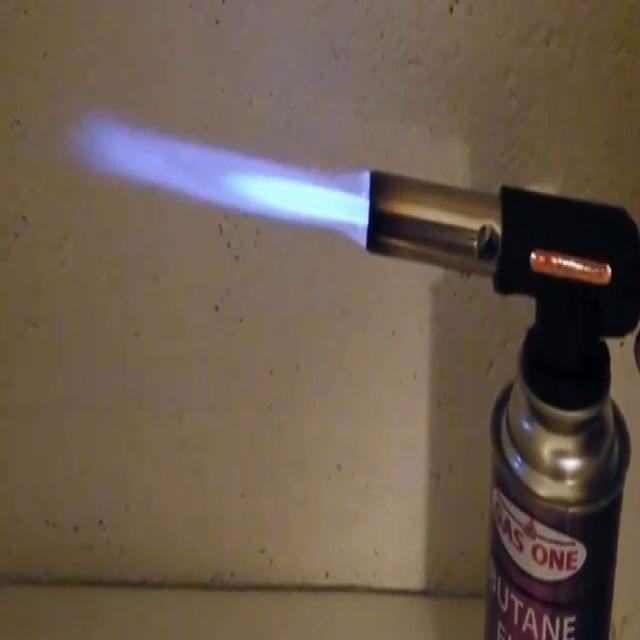fire: (66, 95, 370, 284)
